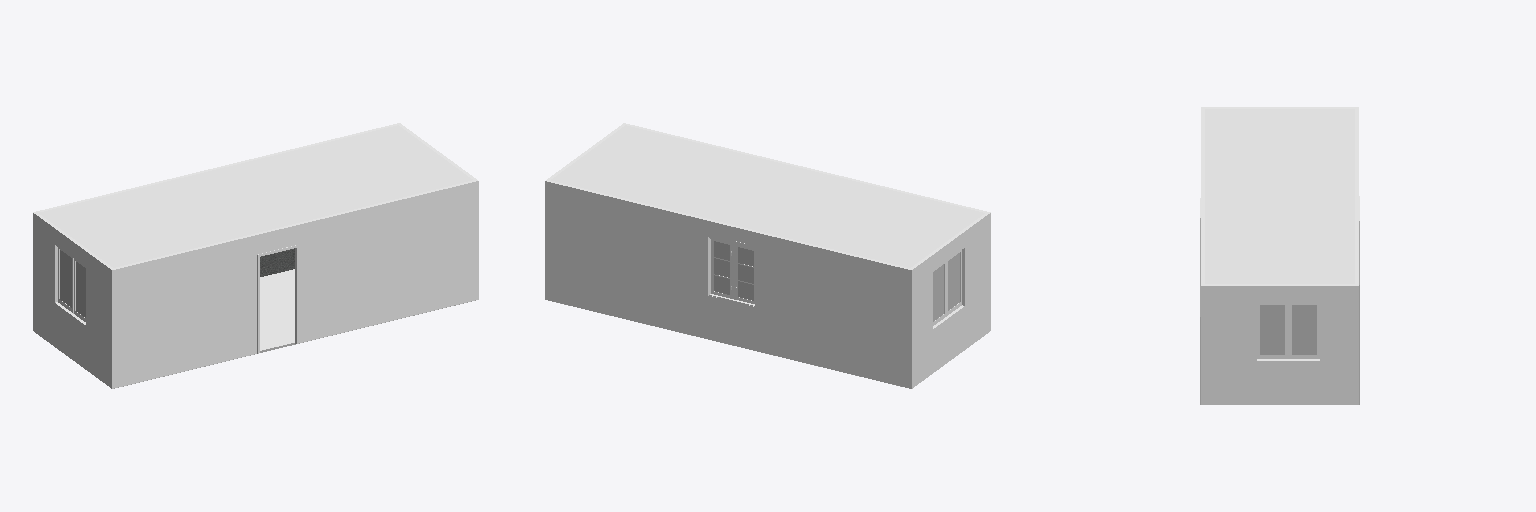
3 renders of one model, left to right at view 1: azimuth 30°, elevation 25°; view 2: azimuth 150°, elevation 25°; view 3: azimuth 270°, elevation 25°, orthographic.
Parts seen in each view (by area): view 1: wall_2_11, room_5_27, wall_1_5, room_5_26, Montant_28, wall_4_22, frame_29, sweethome3d_window_pane_on_hinge_2_41; view 2: wall_4_23, room_5_27, wall_1_5, CageIn_58, sweethome3d_window_pane_on_hinge_1_66, sweethome3d_window_pane_on_hinge_2_74, frame_29, sweethome3d_window_pane_on_hinge_1_36, sweethome3d_window_pane_on_hinge_2_41; view 3: room_5_27, wall_3_17, sweethome3d_window_pane_on_hinge_1_49, sweethome3d_window_pane_on_hinge_2_54, frame_42, sweethome3d_opening_on_hinge_2_53.
Part boxes in pixels (left/top/right/bottom): wall_2_11: left=112, top=181, right=478, bottom=388; room_5_27: left=39, top=125, right=472, bottom=267; wall_1_5: left=33, top=213, right=111, bottom=388; room_5_26: left=260, top=269, right=294, bottom=350; Montant_28: left=257, top=245, right=298, bottom=353; wall_4_22: left=260, top=248, right=294, bottom=276; frame_29: left=53, top=241, right=87, bottom=329; sweethome3d_window_pane_on_hinge_2_41: left=60, top=250, right=71, bottom=307; wall_4_23: left=545, top=181, right=911, bottom=388; room_5_27: left=551, top=125, right=984, bottom=267; wall_1_5: left=912, top=213, right=990, bottom=388; CageIn_58: left=706, top=234, right=758, bottom=310; sweethome3d_window_pane_on_hinge_1_66: left=714, top=241, right=729, bottom=294; sweethome3d_window_pane_on_hinge_2_74: left=738, top=247, right=753, bottom=300; frame_29: left=932, top=244, right=966, bottom=332; sweethome3d_window_pane_on_hinge_1_36: left=948, top=253, right=959, bottom=310; sweethome3d_window_pane_on_hinge_2_41: left=933, top=264, right=943, bottom=321; room_5_27: left=1205, top=109, right=1354, bottom=283; wall_3_17: left=1201, top=286, right=1358, bottom=404; sweethome3d_window_pane_on_hinge_1_49: left=1292, top=305, right=1316, bottom=354; sweethome3d_window_pane_on_hinge_2_54: left=1260, top=305, right=1284, bottom=354; frame_42: left=1254, top=300, right=1322, bottom=363; sweethome3d_opening_on_hinge_2_53: left=1257, top=302, right=1288, bottom=358.
Size of the model in its own units: 809 by 250 by 304.
Materials: 15 (1 with a texture image).